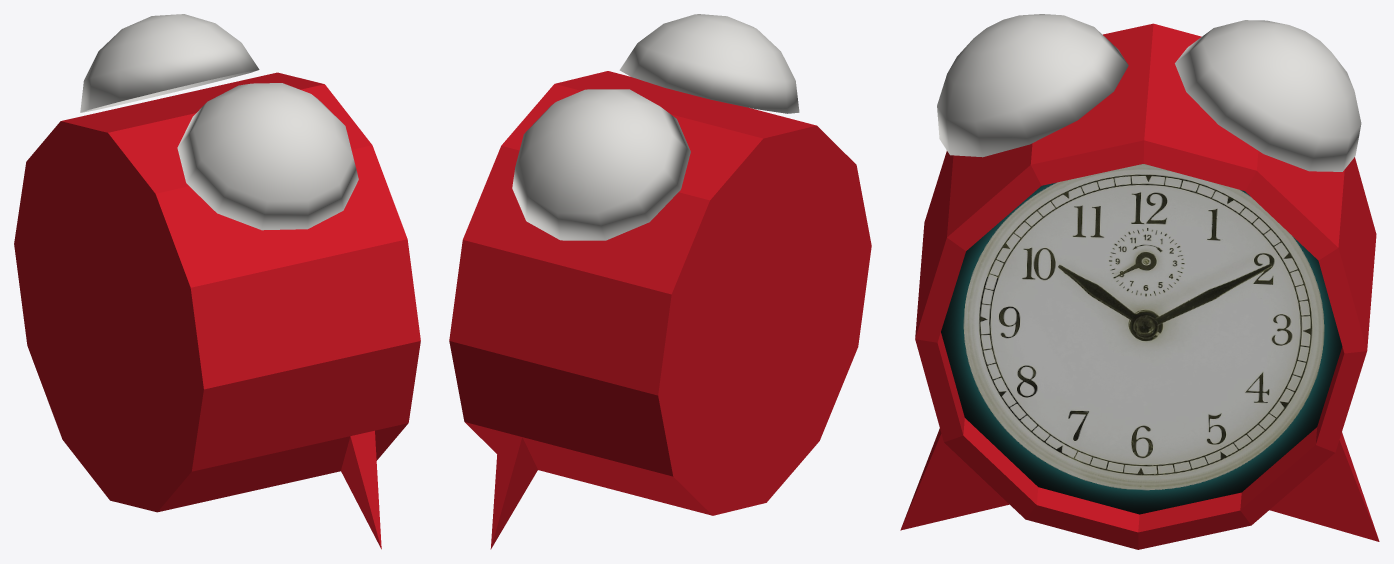
The model's file is AlarmClock.dae.
The picture shows the model from 3 angles, left to right: view 1: azimuth 30°, elevation 25°; view 2: azimuth 150°, elevation 25°; view 3: azimuth 270°, elevation 25°; orthographic projection. The views are drawn at different scales.
Visible parts, largest first — view 1: AlarmClock; view 2: AlarmClock; view 3: AlarmClock.
Boxes of the visible parts, x1,y1,x2,y2 form: AlarmClock: (14,14,420,549); AlarmClock: (449,14,871,549); AlarmClock: (900,14,1379,549).
Size of the model in its own units: 1.07 by 1.72 by 1.92.
